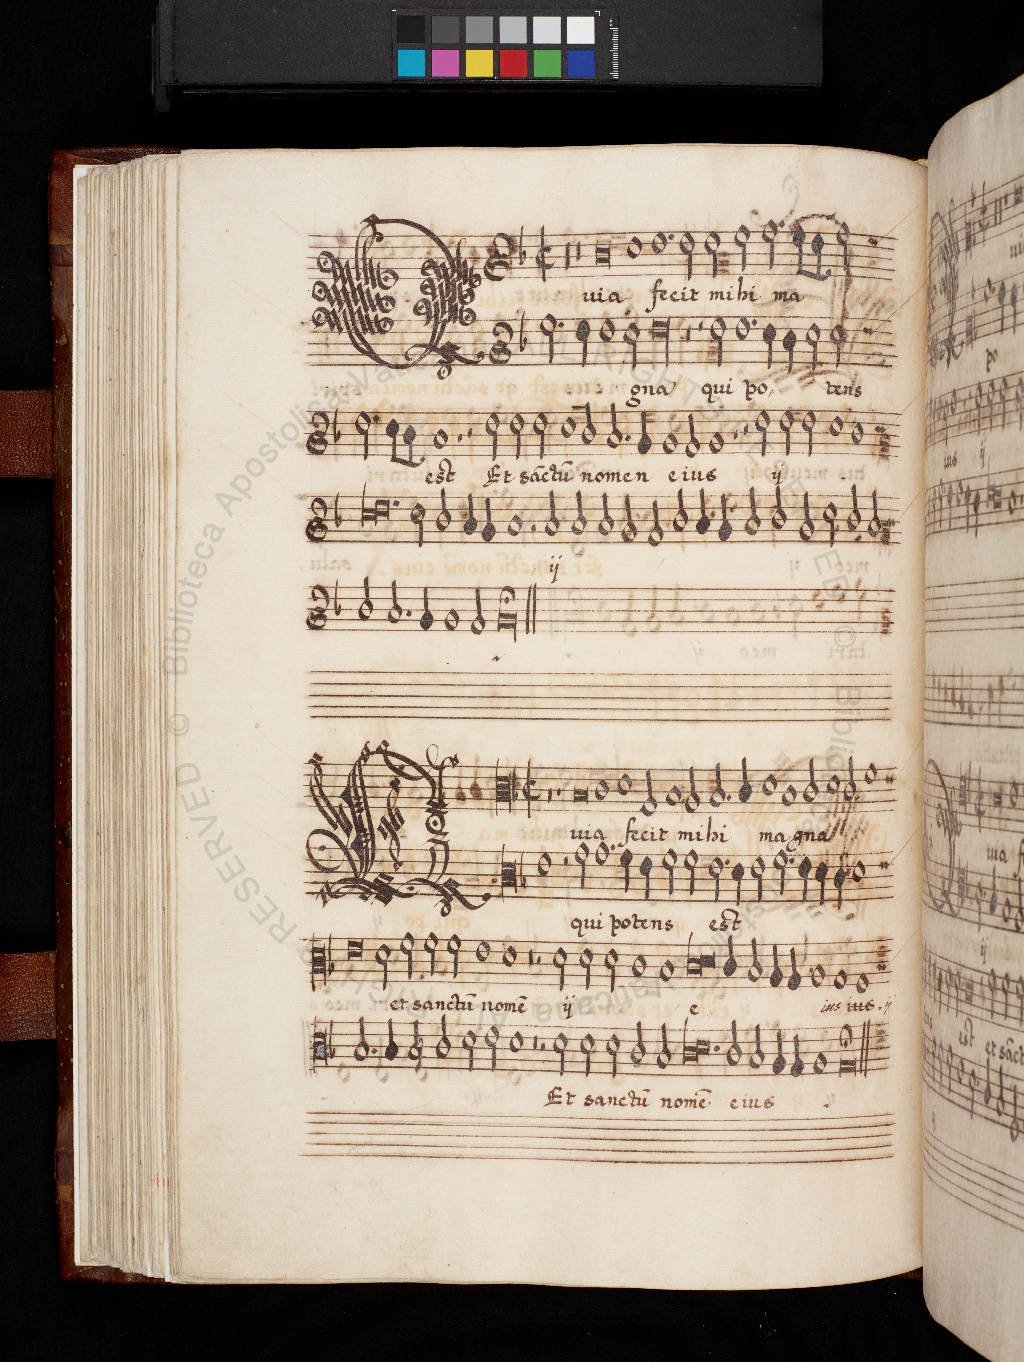breve rest: (523, 930, 535, 993)
breve_5: (341, 930, 370, 969)
c clef_7: (305, 925, 330, 996)
custos_8: (870, 935, 895, 983)
flat_8: (326, 930, 339, 984)
l1semibreve_7: (682, 927, 702, 983)
l2colored semibreve_6: (708, 946, 719, 974)
minim rest: (532, 933, 545, 992)
minim_4: (398, 925, 418, 987), (443, 927, 464, 985), (421, 926, 440, 983)
minim_6: (550, 939, 571, 998), (373, 935, 394, 995), (577, 940, 597, 998), (601, 940, 622, 997)
minim_8: (744, 930, 765, 989)
semibreve_10: (830, 962, 852, 997)
semibreve_11: (851, 966, 872, 1001)
semibreve_5: (471, 931, 495, 970)
semibreve_6: (498, 936, 521, 976)
semibreve_7: (626, 945, 651, 987)
semibreve_8: (655, 952, 679, 991)
semibreve_9: (807, 957, 830, 998)
semiminim_10: (784, 938, 802, 999)
semiminim_7: (721, 931, 740, 987)
semiminim_9: (766, 937, 784, 995)
